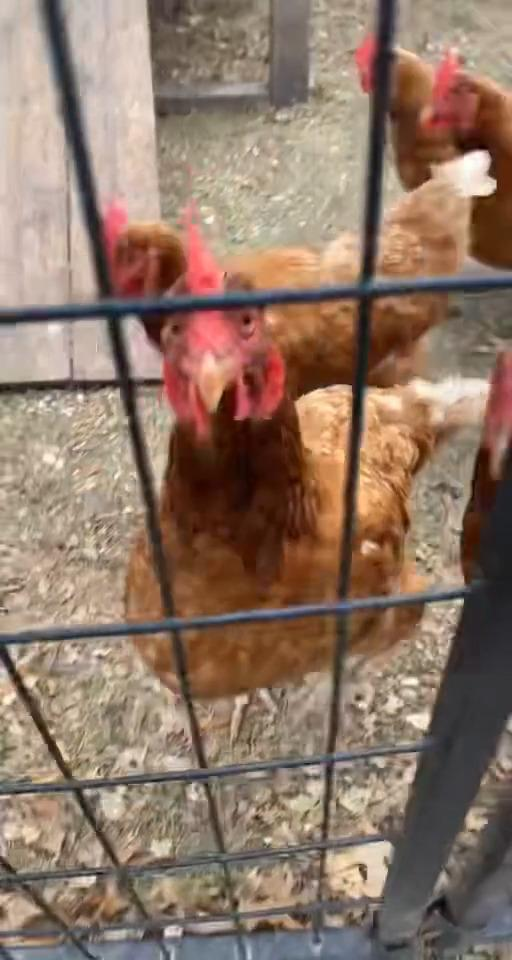rooster: (123, 207, 491, 718), (98, 151, 498, 403), (421, 46, 511, 277), (352, 39, 461, 192), (453, 340, 511, 582)
